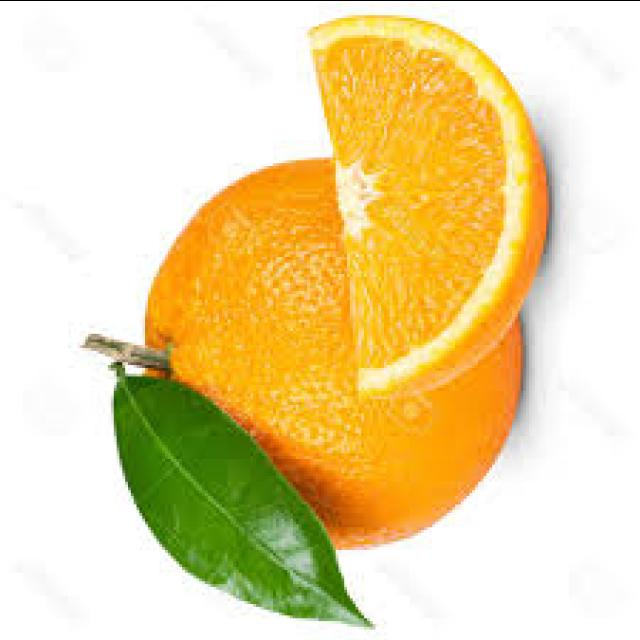orange: (114, 138, 528, 568)
